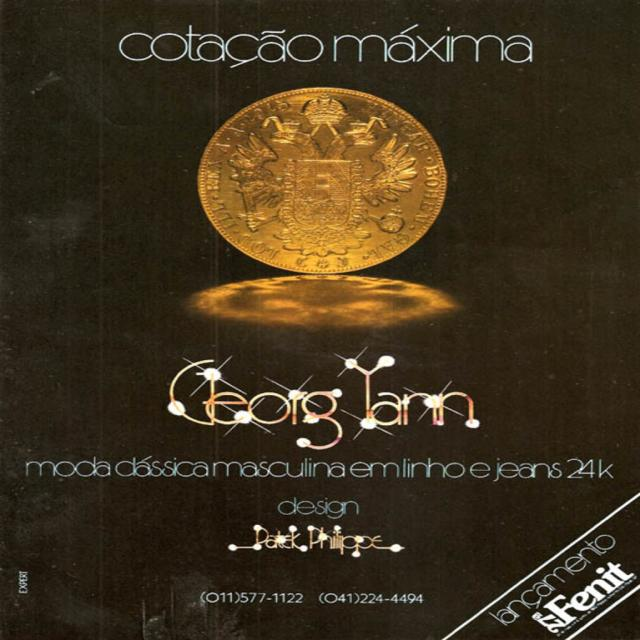Coin: (199, 85, 453, 278)
